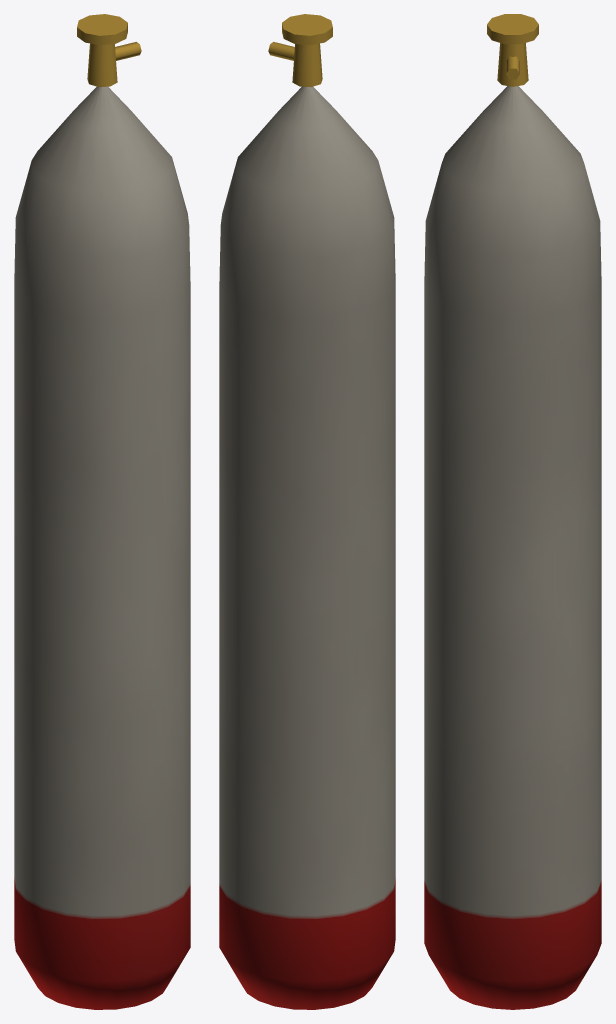
Rendered from gasCylinder_L1.glb.
3 views of the same model, side by side, from view 1: azimuth 30°, elevation 25°; view 2: azimuth 150°, elevation 25°; view 3: azimuth 270°, elevation 25° (orthographic).
Parts seen in each view (by area): view 1: shell, handwheel, valve; view 2: shell, handwheel, valve; view 3: shell, handwheel, valve.
Boxes of the visible parts, bbox=[...] form: shell: bbox=[14, 86, 190, 1009]; handwheel: bbox=[77, 14, 127, 45]; valve: bbox=[87, 43, 117, 87]; shell: bbox=[219, 86, 395, 1009]; handwheel: bbox=[282, 14, 332, 45]; valve: bbox=[292, 43, 322, 87]; shell: bbox=[424, 86, 601, 1009]; handwheel: bbox=[487, 14, 538, 44]; valve: bbox=[497, 43, 528, 86].
Bounding box in the file's own units: 0.204 × 1.22 × 0.204.
2 materials, 1 textured.
